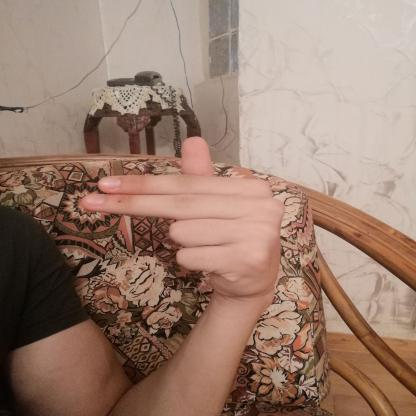GHAYN: (67, 127, 296, 304)
